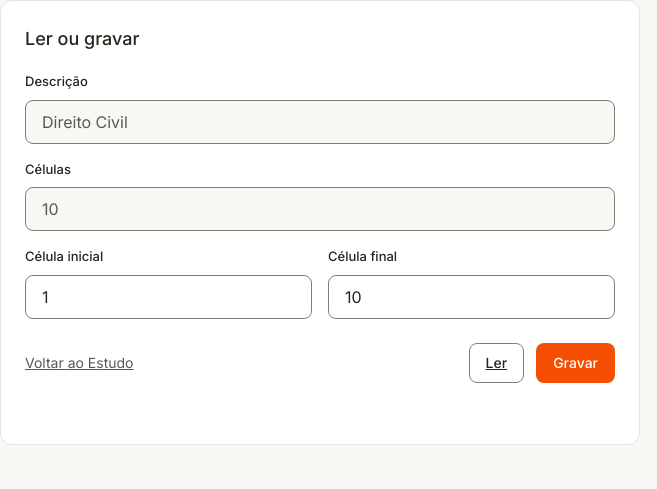
it: VozView: campos e validação › inicial N reajusta a final para N e mostra o erro da inicial (entre 1 e N-1)
Replace the text in the field labelled "Célula inicial" with "10" at (168, 296), box 25,274 -> 312,318
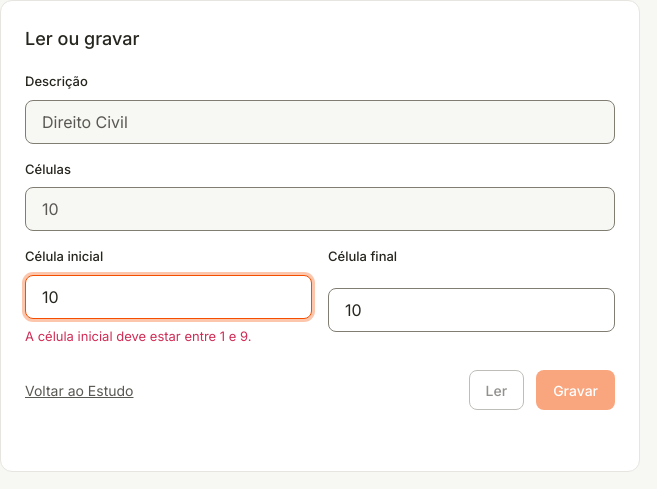
Expected: the field labelled "Célula final" holds "10", 328,288 -> 615,332
Now the button "Gravar" is disabled, box 536,370 -> 615,410
Now the message "A célula inicial deve estar entre 1 e 9." is shown, box 25,328 -> 252,344
